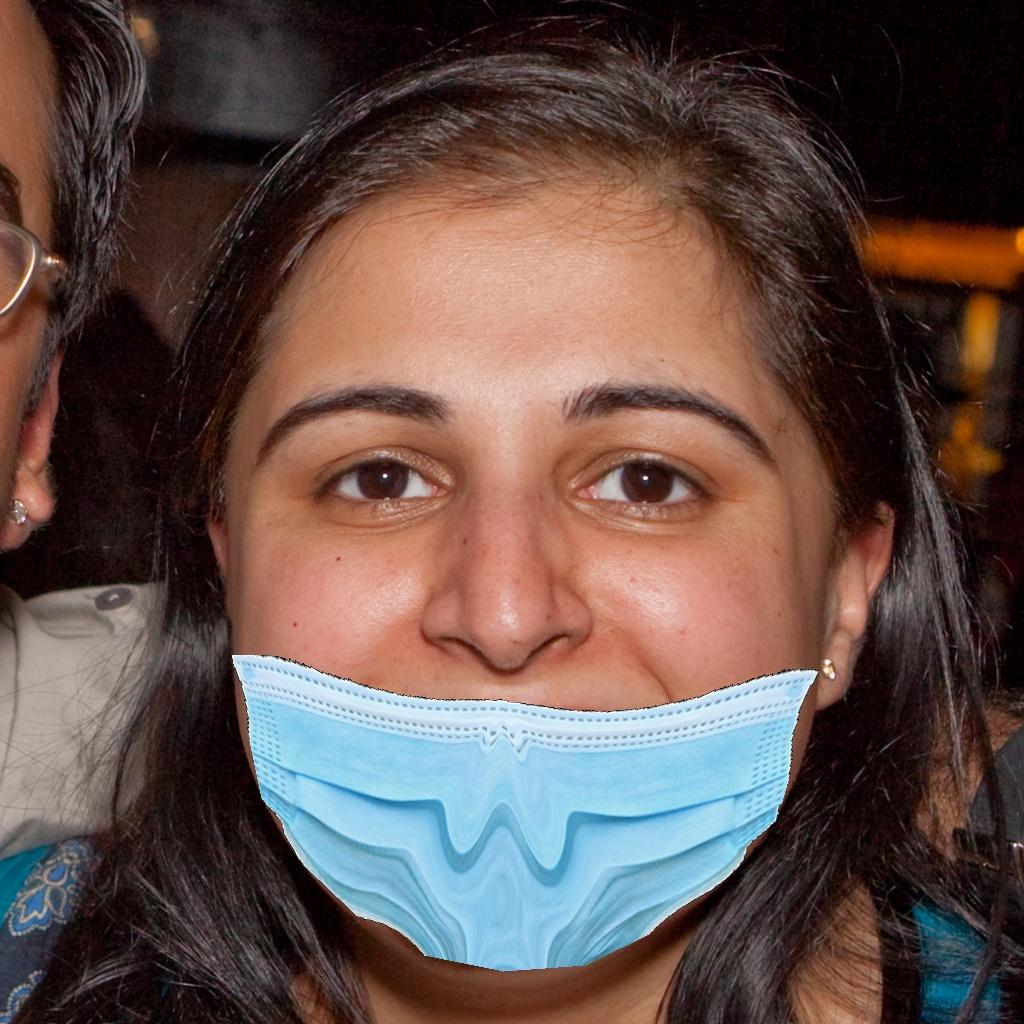Máscara Incorreta: (230, 290, 807, 964)
